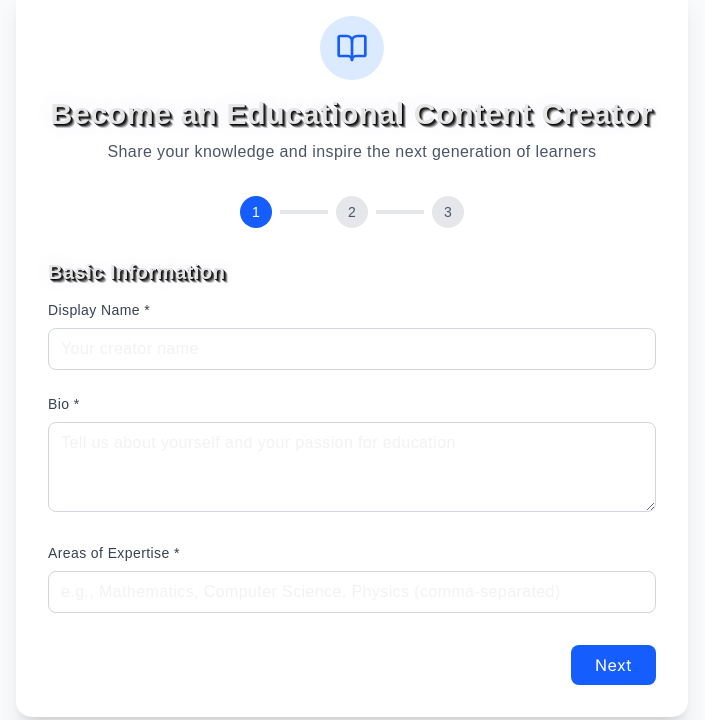
it: CreatorApply Component › Form Navigation › navigates to step 2 when Next is clicked with valid step 1 data
// Fill required fields for step 1
Step 1. Type "Test Creator" into the field with placeholder "Your creator name" → [352, 349], box [48, 328, 656, 370]
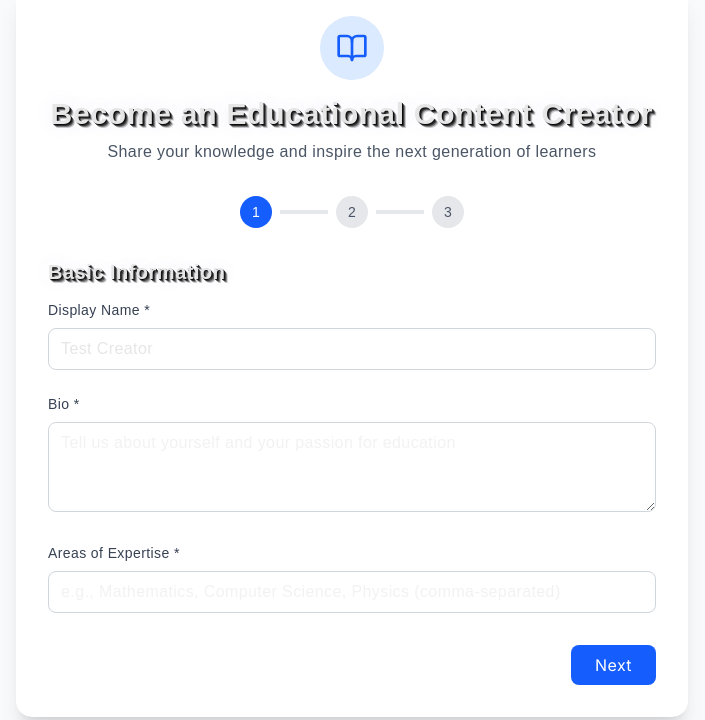
Step 2. Type "Test bio content" into the text box with placeholder "Tell us about yourself and your passion for education" → [352, 467], box [48, 422, 656, 512]
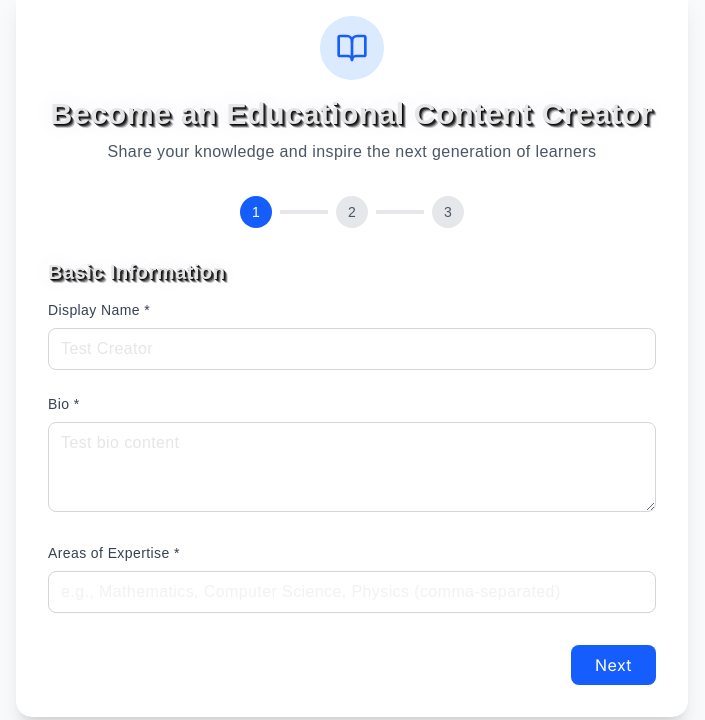
Step 3. Replace the text in the field with placeholder "e.g., Mathematics, Computer Science, Physics (comma-separated)" with "Mathematics, Physics" → [352, 592], box [48, 571, 656, 613]
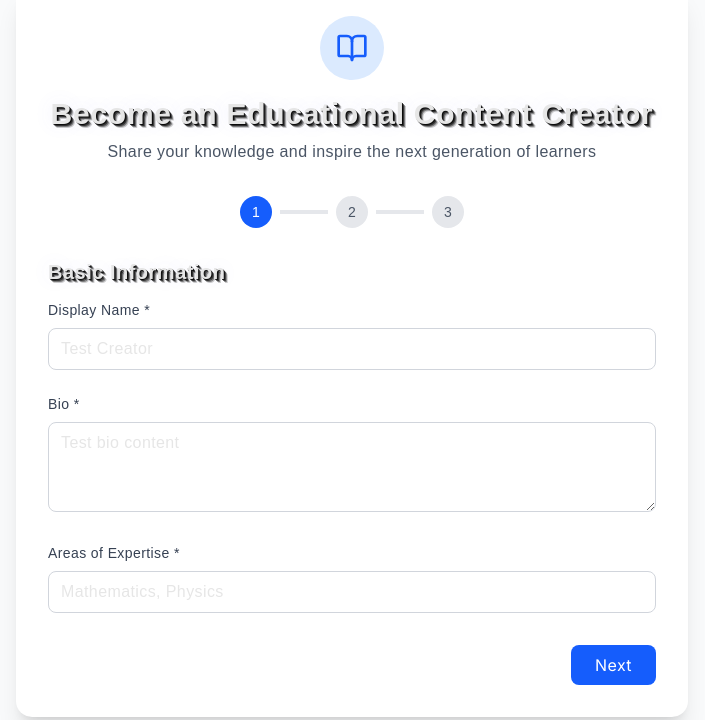
Step 4. Click the button "Next" → [614, 665], box [571, 645, 656, 685]
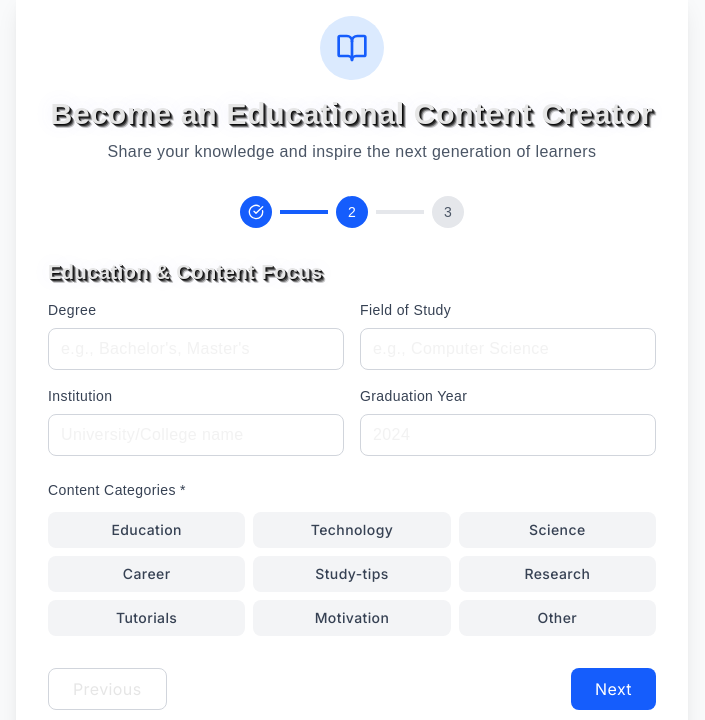
Now the heading "Education & Content Focus" is shown, box [48, 261, 323, 283]
